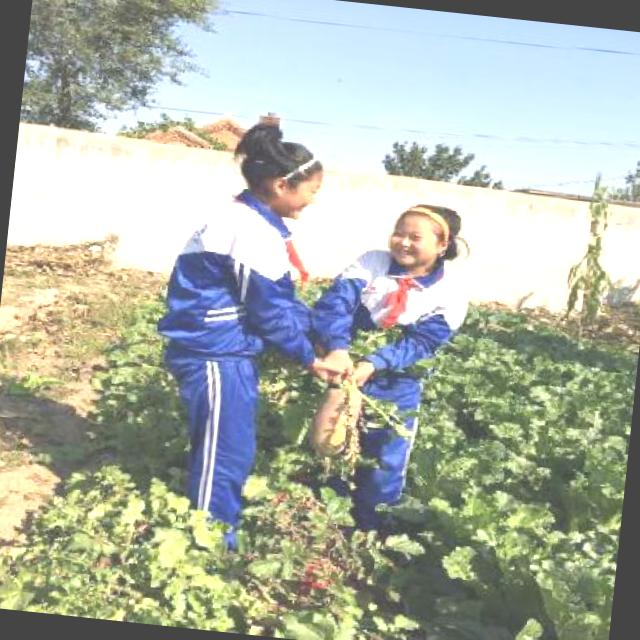Person: (270, 180, 490, 539)
